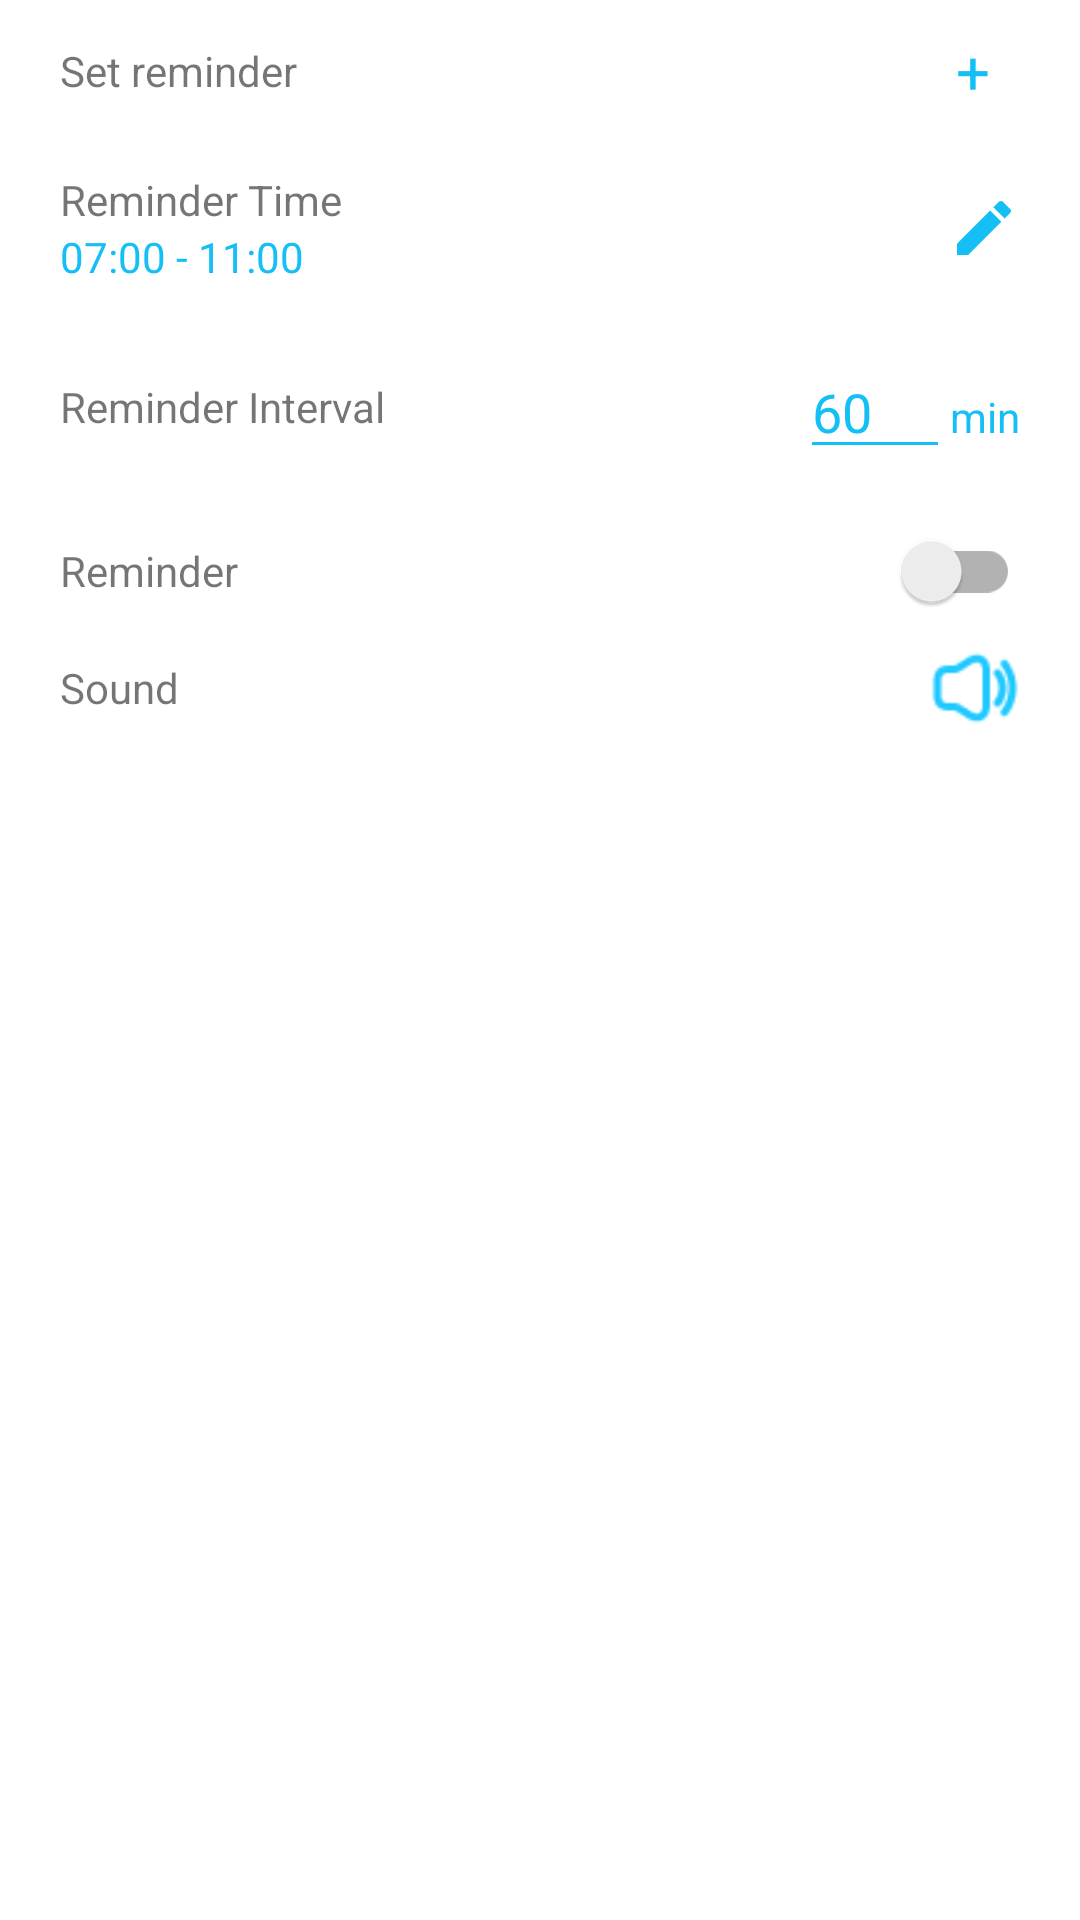

Screen size 1080×1920. Icon name, then its box in pixels as (x1, y1, x2, y2):
edit: (957, 201, 1011, 255)
sound on: (932, 653, 1018, 723)
